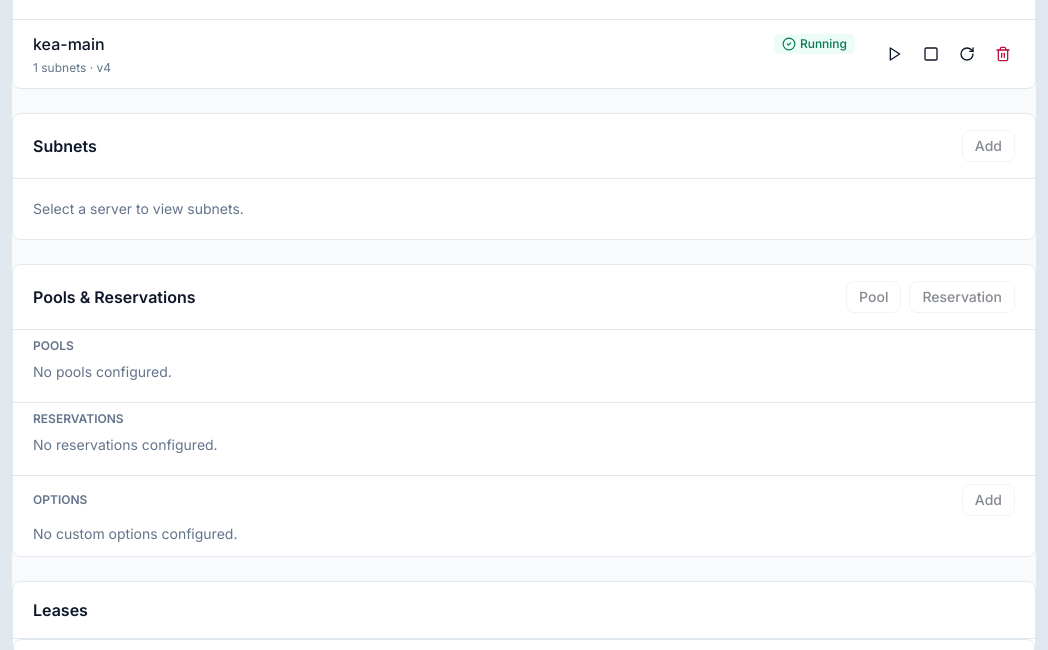
Test: DHCP Management page › leases search filters rows
Click the text "kea-main" at (69, 44), box [33,32,105,56]
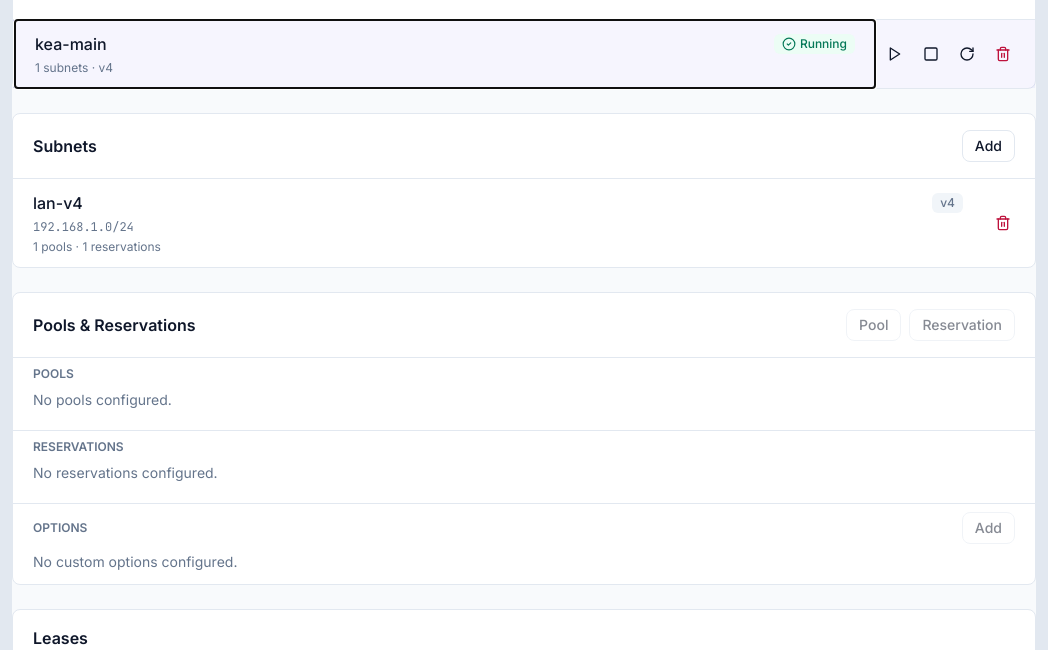
Expected: the text "lan-v4" is shown
Click the text "lan-v4" at (58, 203), box [33,191,83,215]
(page scrolled)
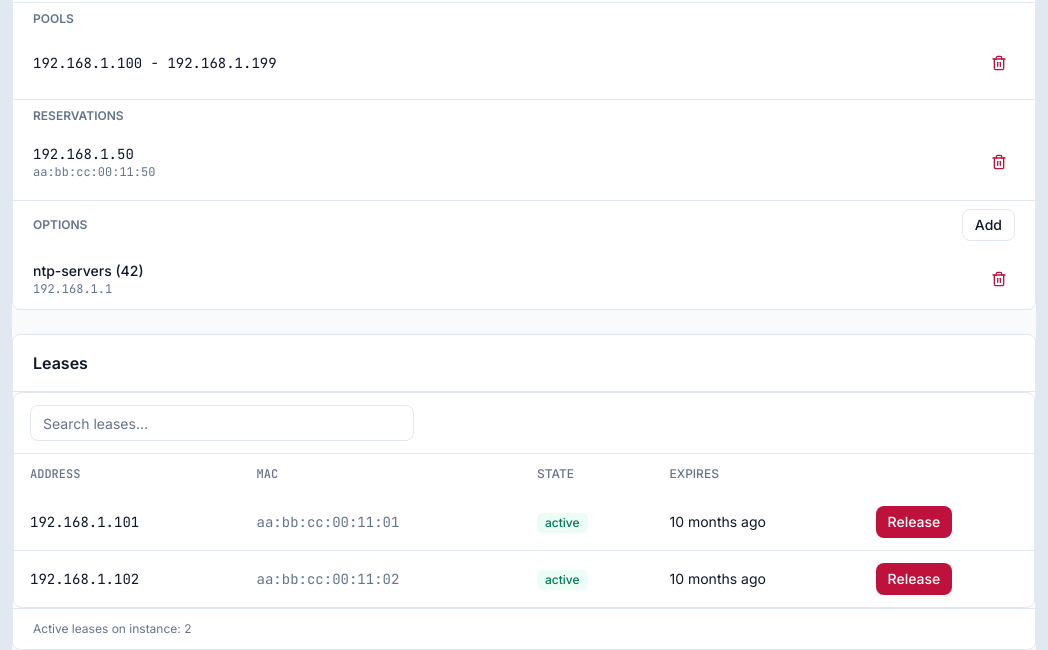
Expected: the text "192.168.1.101" is shown, [30,513,139,531]
Expected: the text "192.168.1.102" is shown, [30,570,139,588]
Type "102" into the field with placeholder "Search leases…" at (222, 423), box [30,405,414,441]
(page scrolled)
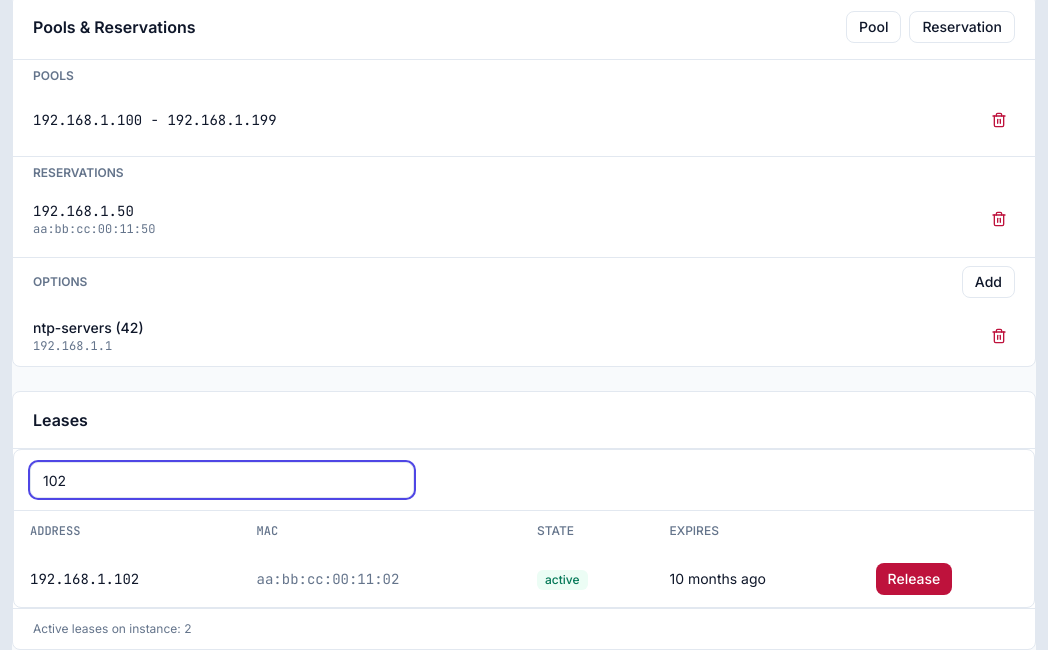
Expected: the text "192.168.1.102" is shown, [30,570,139,588]
Expected: the text "192.168.1.101" is gone
